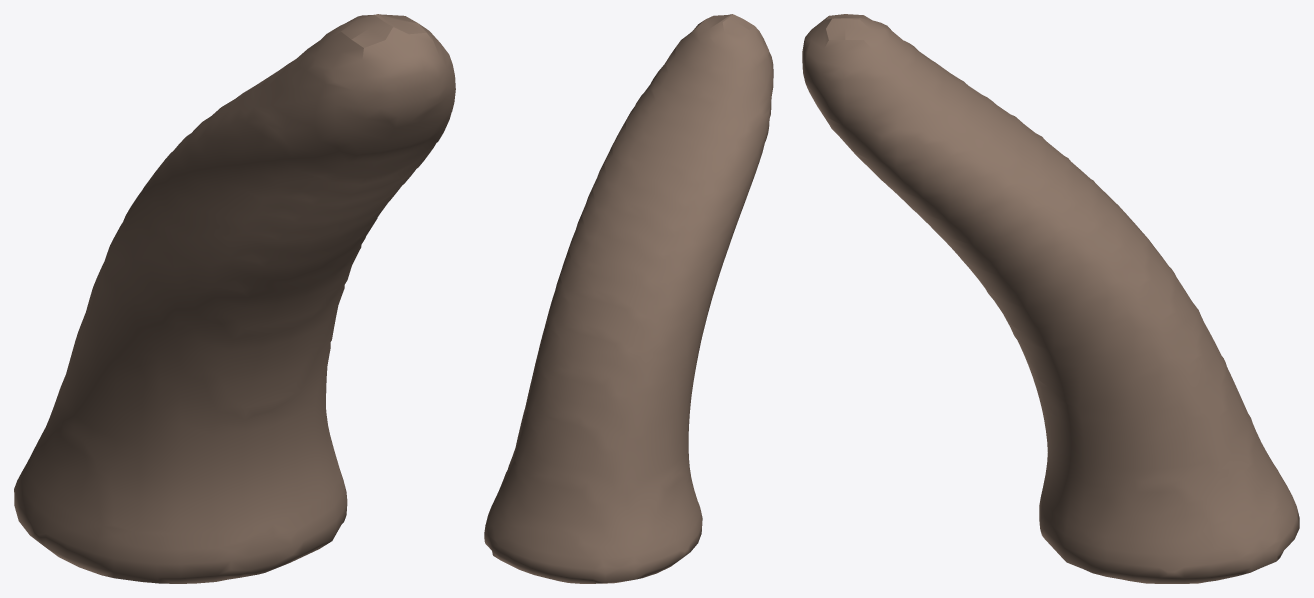
Rendered from MushroomPlatformTilt.fbx.
3 renders of one model, left to right at view 1: azimuth 30°, elevation 25°; view 2: azimuth 150°, elevation 25°; view 3: azimuth 270°, elevation 25°, orthographic. The views are drawn at different scales.
Parts seen in each view (by area): view 1: Cube.001; view 2: Cube.001; view 3: Cube.001.
Boxes of the visible parts, bbox=[...] form: Cube.001: bbox=[14, 14, 455, 583]; Cube.001: bbox=[484, 14, 773, 583]; Cube.001: bbox=[802, 14, 1299, 583].
Size of the model in its own units: 78.71 by 175 by 149.
